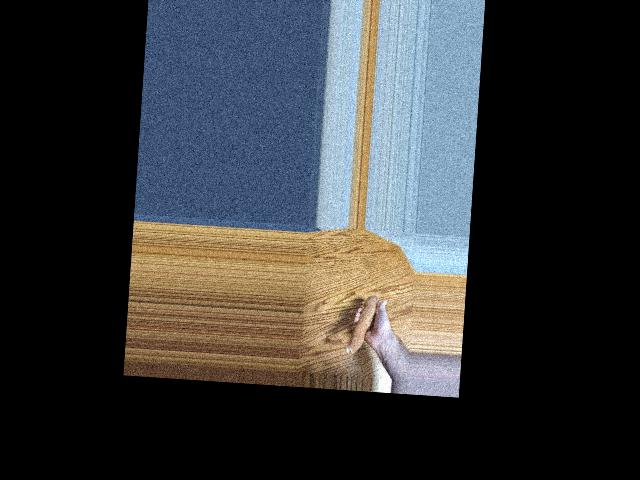sweet_potato: (346, 293, 379, 357)
